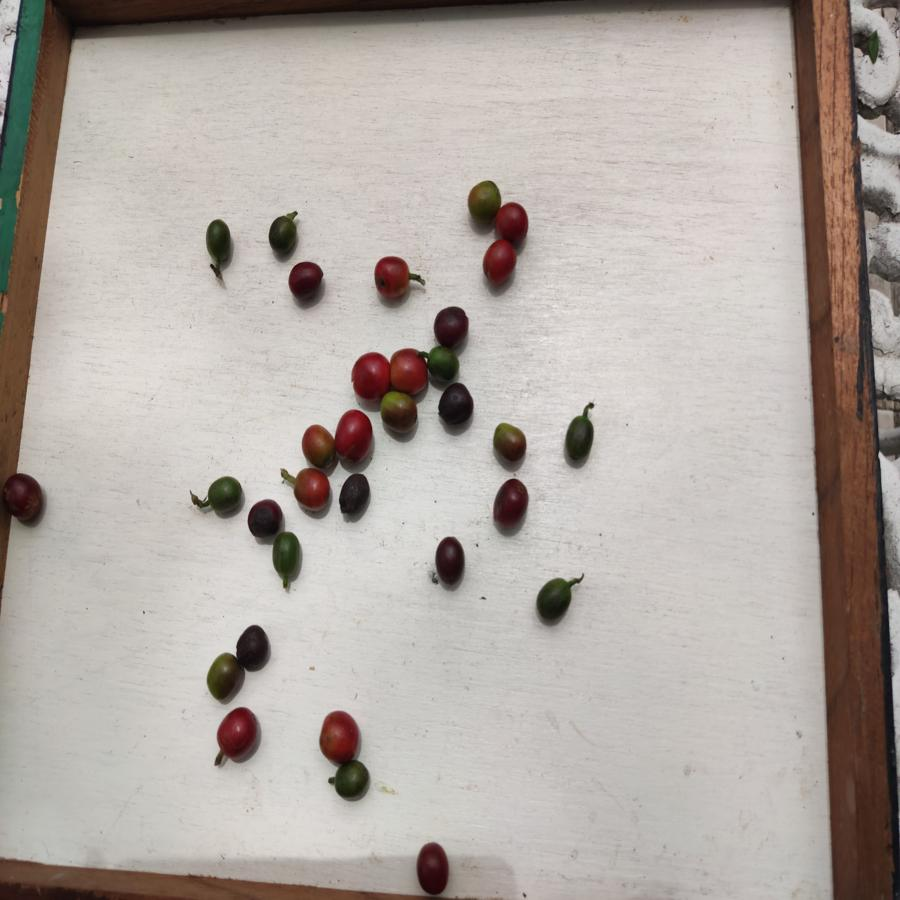Inmaduro: (288, 467, 334, 510), (536, 575, 572, 624), (562, 413, 595, 464), (330, 761, 372, 801), (271, 530, 302, 579), (207, 475, 242, 514), (203, 219, 232, 265), (269, 214, 298, 253), (426, 347, 460, 380)
Maduro: (216, 707, 260, 759), (335, 409, 372, 463), (350, 352, 389, 401), (321, 711, 358, 762), (480, 237, 518, 285), (373, 254, 411, 300), (389, 347, 428, 391), (497, 201, 529, 248)
Pinton: (379, 391, 419, 433), (204, 653, 239, 701), (467, 179, 501, 223), (491, 421, 526, 463), (301, 423, 334, 466)
Sobremaduro: (1, 471, 45, 525), (492, 477, 531, 529), (417, 842, 451, 896), (435, 382, 475, 426), (433, 536, 467, 585), (288, 261, 326, 303), (339, 472, 373, 518), (235, 625, 269, 669), (434, 306, 468, 346), (247, 498, 280, 539)
